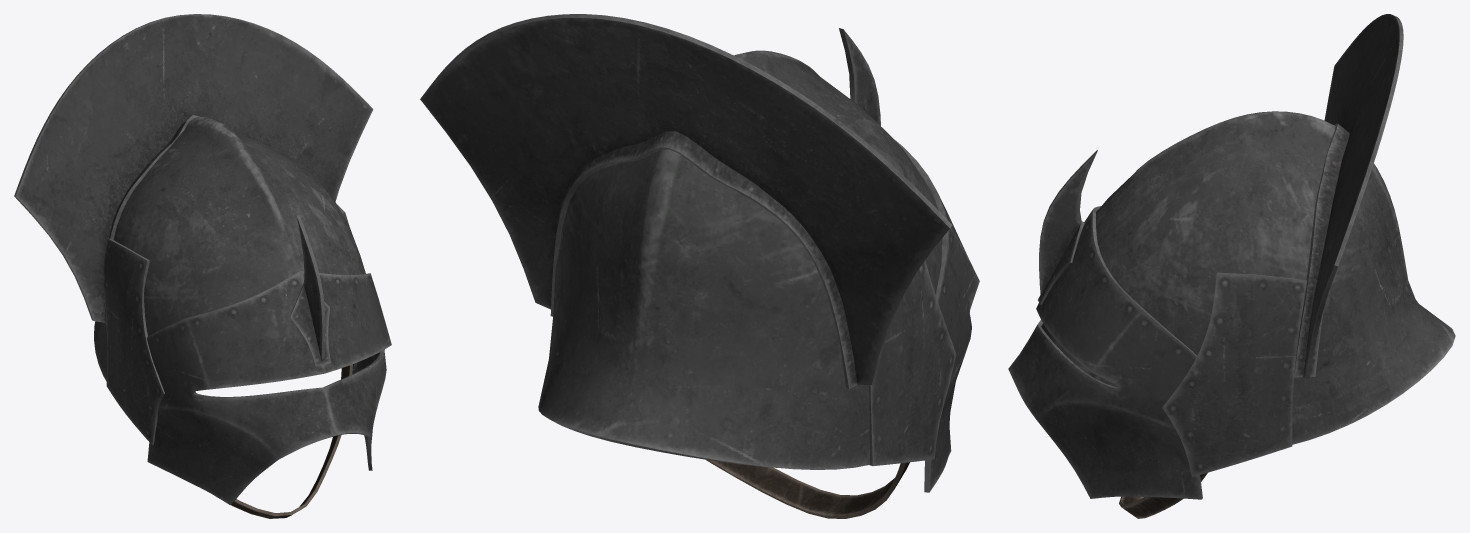
File: sk_uruk_hai_helmet_spear_heavy_a4.fbx
3 renders of one model, left to right at view 1: azimuth 30°, elevation 25°; view 2: azimuth 150°, elevation 25°; view 3: azimuth 270°, elevation 25°, orthographic. The views are drawn at different scales.
Visible parts, largest first — view 1: sk_uruk_hai_helmet_spear_heavy_a4.1, sk_uruk_hai_helmet_spear_heavy_a4.0; view 2: sk_uruk_hai_helmet_spear_heavy_a4.1, sk_uruk_hai_helmet_spear_heavy_a4.0; view 3: sk_uruk_hai_helmet_spear_heavy_a4.1, sk_uruk_hai_helmet_spear_heavy_a4.0.
Part boxes in pixels (<box>): sk_uruk_hai_helmet_spear_heavy_a4.1: <box>14,14,391,504</box>; sk_uruk_hai_helmet_spear_heavy_a4.0: <box>219,364,352,518</box>; sk_uruk_hai_helmet_spear_heavy_a4.1: <box>420,14,979,492</box>; sk_uruk_hai_helmet_spear_heavy_a4.0: <box>706,459,909,518</box>; sk_uruk_hai_helmet_spear_heavy_a4.1: <box>1008,14,1455,499</box>; sk_uruk_hai_helmet_spear_heavy_a4.0: <box>1119,472,1207,518</box>.
Bounding box in the file's own units: 0.3371 × 0.3196 × 0.3757.
Materials: 2 (2 with a texture image).
